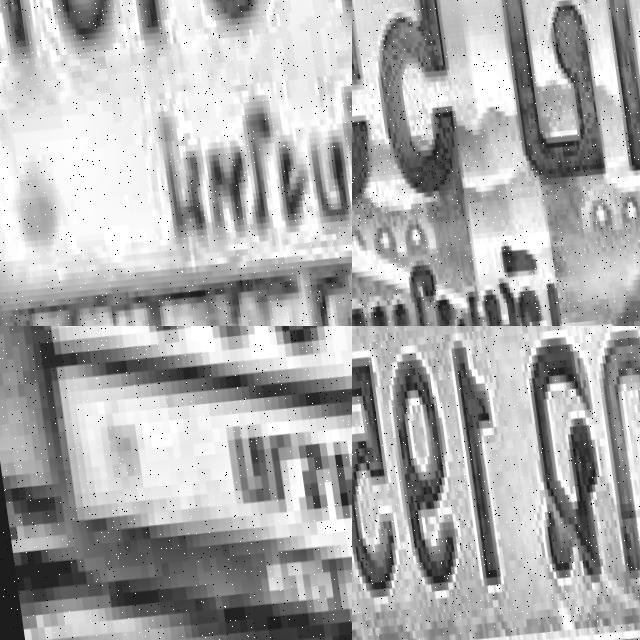license-plate: (0, 0, 352, 326), (5, 326, 352, 640), (352, 0, 640, 326), (352, 326, 640, 640)
